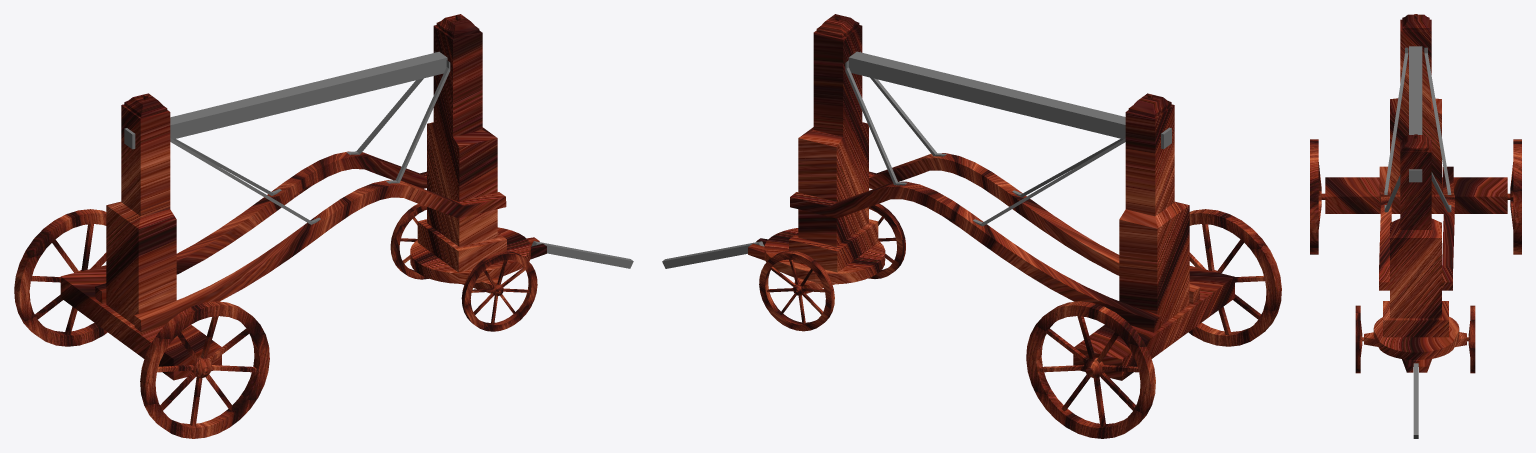
The model's file is carro.fbx.
The picture shows the model from 3 angles, left to right: view 1: azimuth 30°, elevation 25°; view 2: azimuth 150°, elevation 25°; view 3: azimuth 270°, elevation 25°; orthographic projection. The views are drawn at different scales.
Visible parts, largest first — view 1: body, rodas_grandes, barra_superior, rodas_pequenas, barras_apoio, barra_puxar; view 2: body, rodas_grandes, barra_superior, rodas_pequenas, barras_apoio, barra_puxar; view 3: body, rodas_grandes, barras_apoio, barra_superior, rodas_pequenas, barra_puxar.
Part boxes in pixels (box(x1,y1,x2,y2)): body: box(60, 14, 546, 380); rodas_grandes: box(14, 209, 269, 438); barra_superior: box(124, 51, 447, 149); rodas_pequenas: box(390, 203, 537, 331); barras_apoio: box(170, 51, 450, 224); barra_puxar: box(531, 241, 633, 268); body: box(748, 14, 1234, 380); rodas_grandes: box(1026, 209, 1281, 438); barra_superior: box(848, 51, 1171, 149); rodas_pequenas: box(759, 203, 905, 331); barras_apoio: box(845, 51, 1125, 226); barra_puxar: box(662, 241, 764, 268); body: box(1321, 14, 1510, 372); rodas_grandes: box(1310, 139, 1521, 254); barras_apoio: box(1384, 47, 1451, 212); barra_superior: box(1409, 46, 1422, 182); rodas_pequenas: box(1355, 305, 1475, 373); barra_puxar: box(1413, 363, 1418, 438).
Size of the model in its own units: 766 by 393 by 315.
